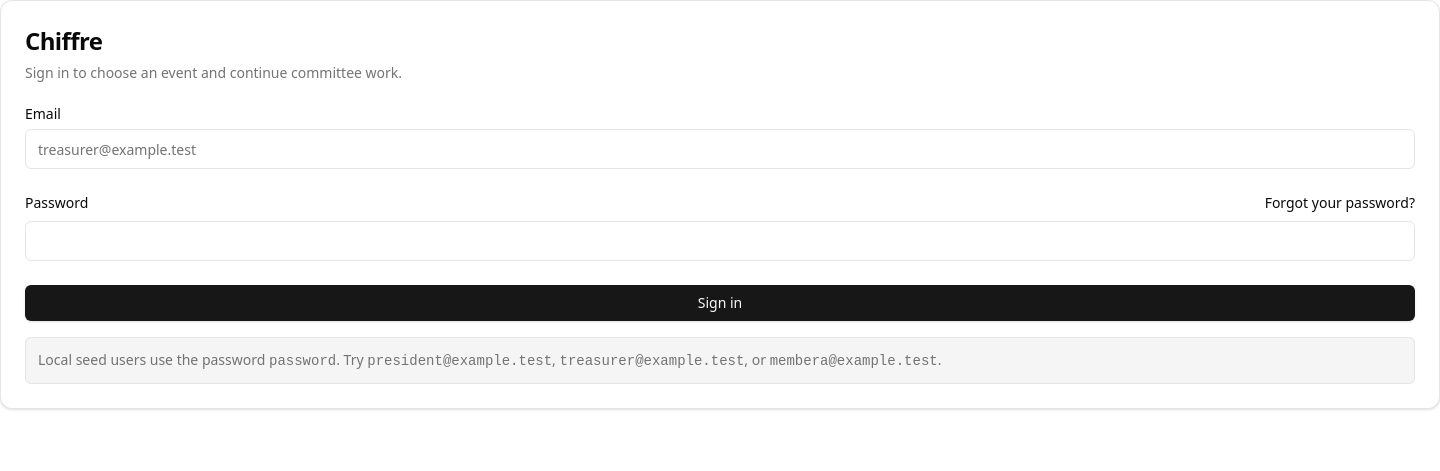
LoginForm › shows a safe failed-login message
In the field labelled "Email": (720, 149) x1=25 y1=129 x2=1415 y2=169, type "missing@example.test"
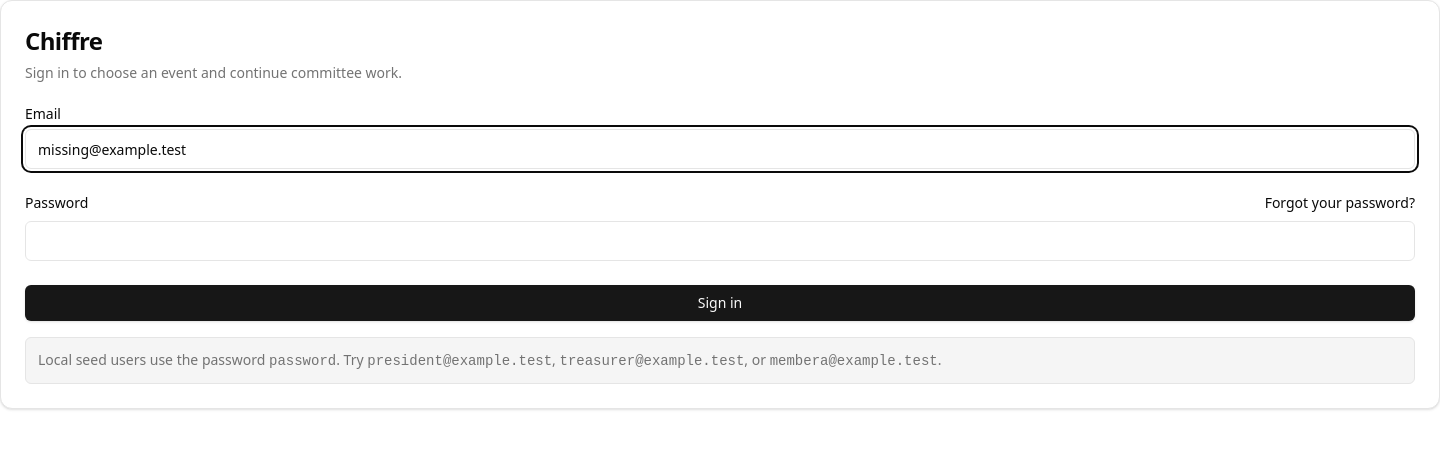
In the password field labelled "Password": (720, 241) x1=25 y1=221 x2=1415 y2=261, type "bad-password"
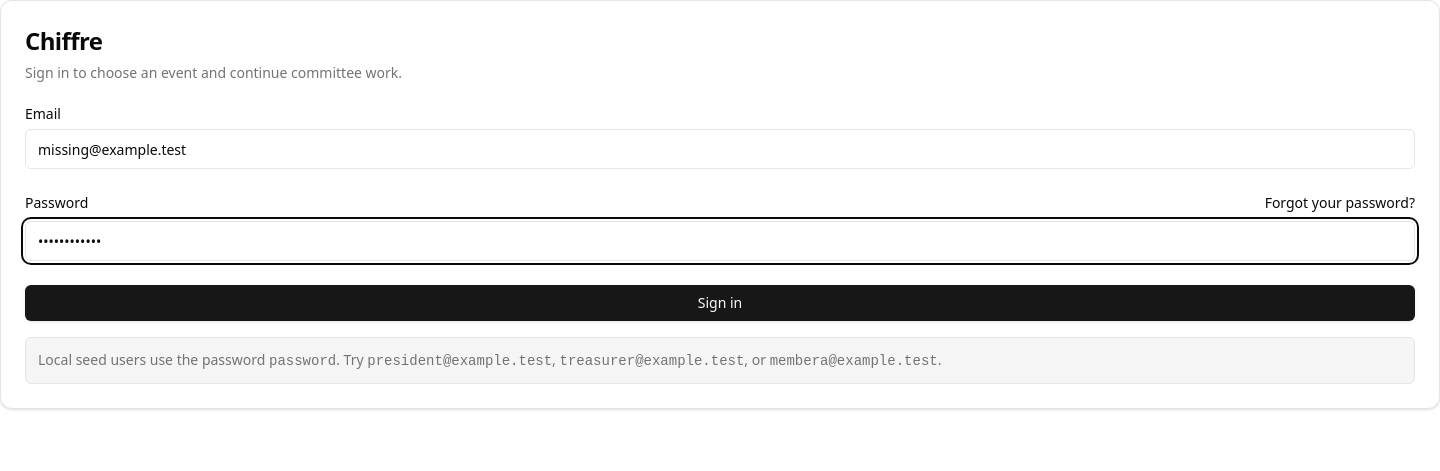
Click the button "Sign in": (720, 303) x1=25 y1=285 x2=1415 y2=321
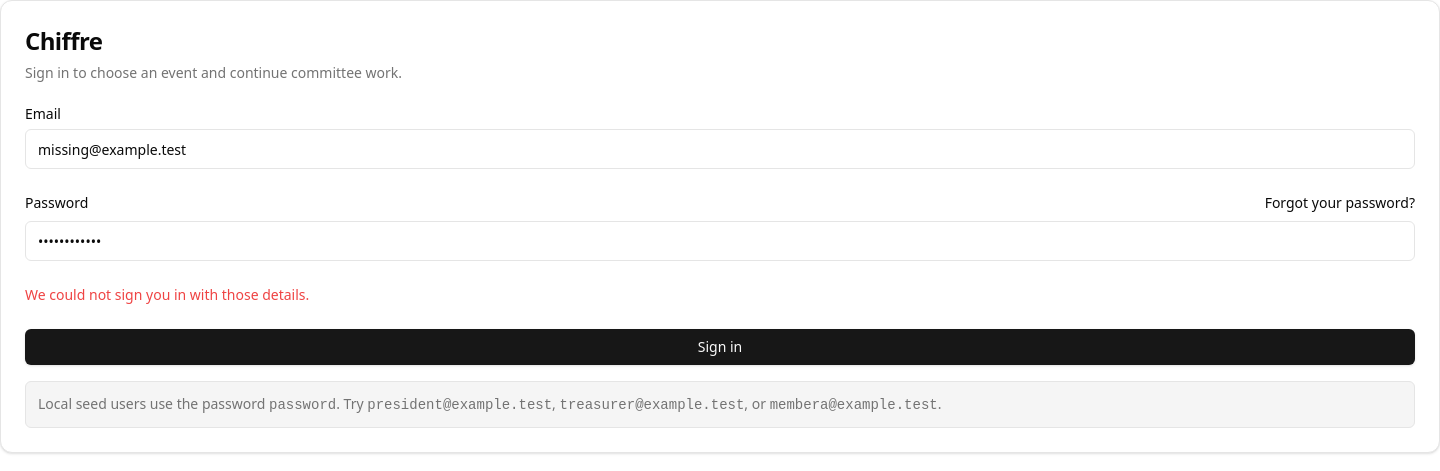
Expected: the text "We could not sign you in with those details." is shown, x1=25 y1=285 x2=309 y2=304
